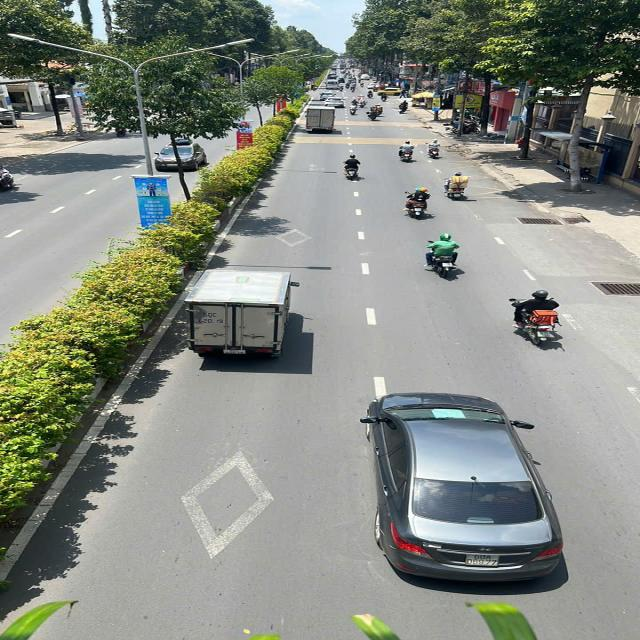ben: (177, 265, 304, 364), (300, 103, 342, 136)
car: (354, 388, 570, 592), (322, 95, 347, 110)
motobyte: (506, 288, 570, 352), (421, 232, 470, 280), (398, 184, 439, 222), (443, 170, 474, 201), (392, 137, 422, 164), (341, 153, 368, 181), (423, 134, 446, 160), (396, 98, 413, 116), (346, 103, 362, 117)
